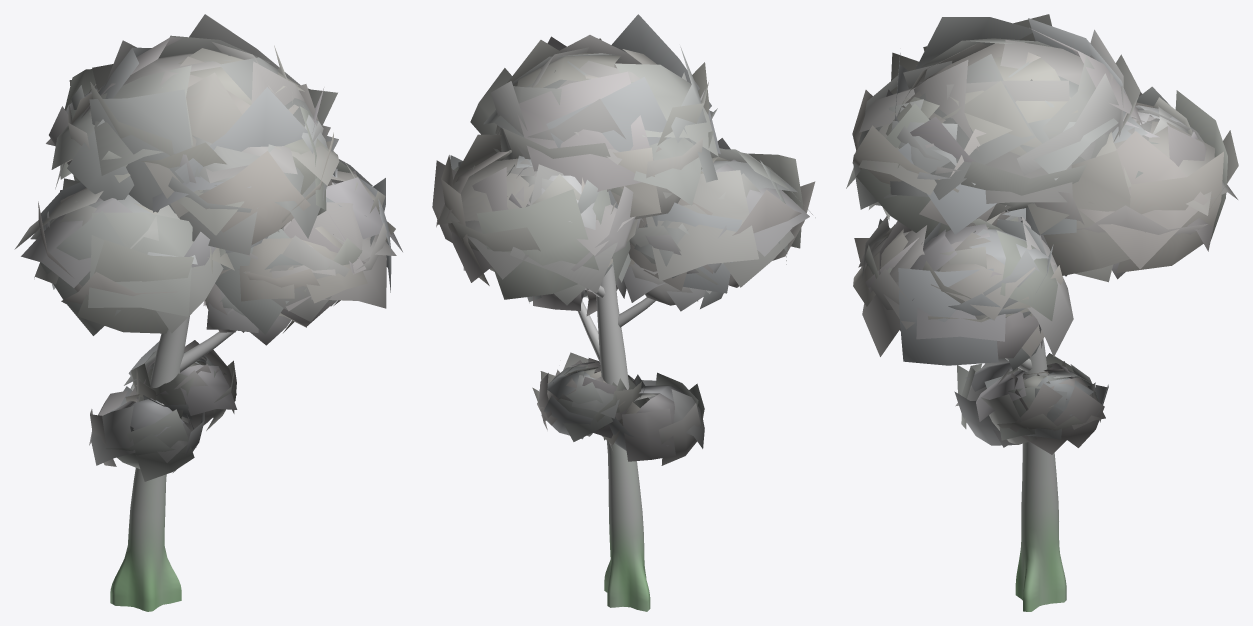
File: jungleC_lod0.glb
3 renders of one model, left to right at view 1: azimuth 30°, elevation 25°; view 2: azimuth 150°, elevation 25°; view 3: azimuth 270°, elevation 25°, orthographic. The views are drawn at different scales.
Parts seen in each view (by area): view 1: jungleC_lod0; view 2: jungleC_lod0; view 3: jungleC_lod0.
Part boxes in pixels (x1,y1,x2,y2): jungleC_lod0: (14, 14, 402, 611); jungleC_lod0: (432, 14, 815, 611); jungleC_lod0: (846, 14, 1238, 611).
Size of the model in its own units: 17.68 by 26.47 by 16.3.
